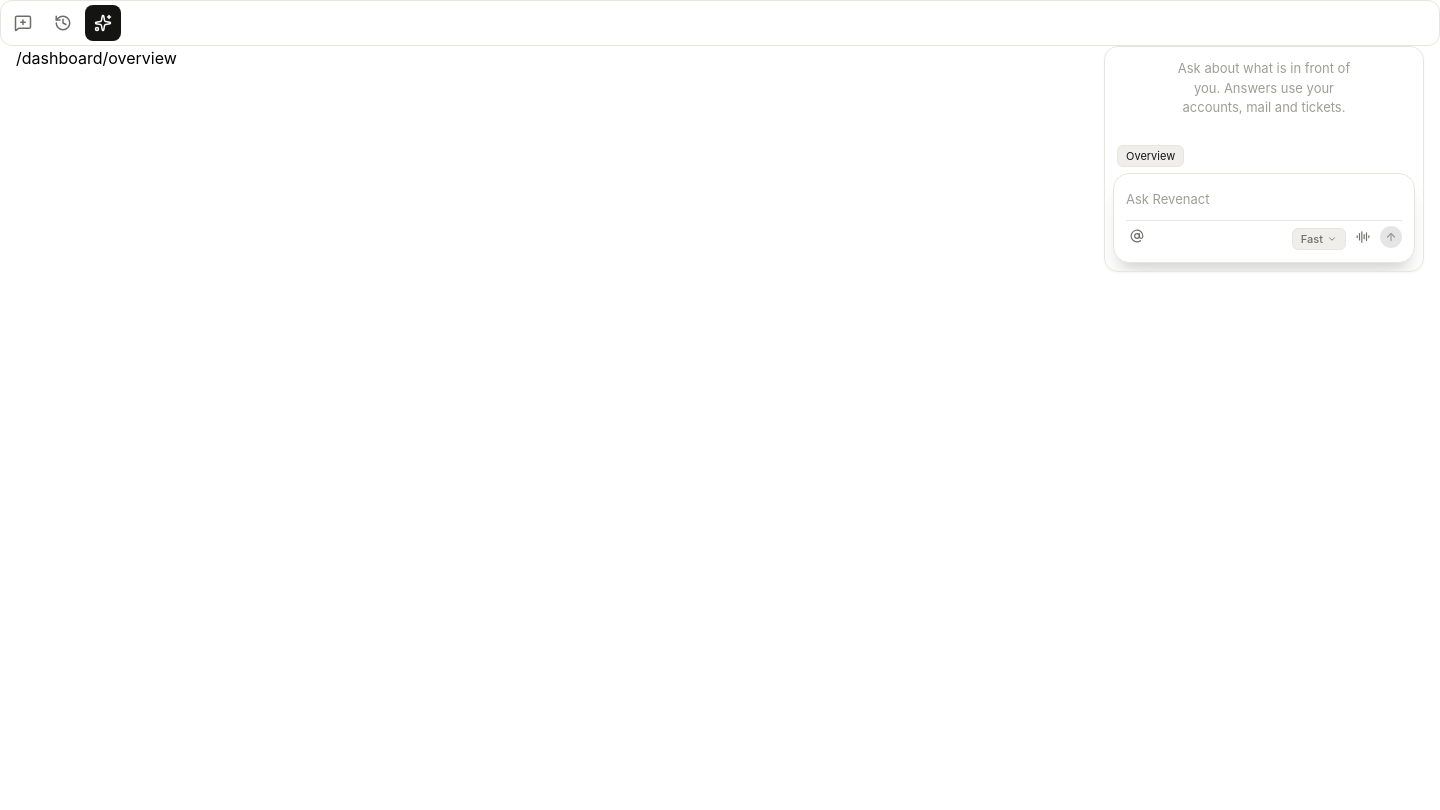
Test: reopening from history on the dashboard › opens from History without saving the open choice
The width and height of the screenshot is (1440, 810).
Click the button named "History" at (63, 23), box [45,5,81,41]
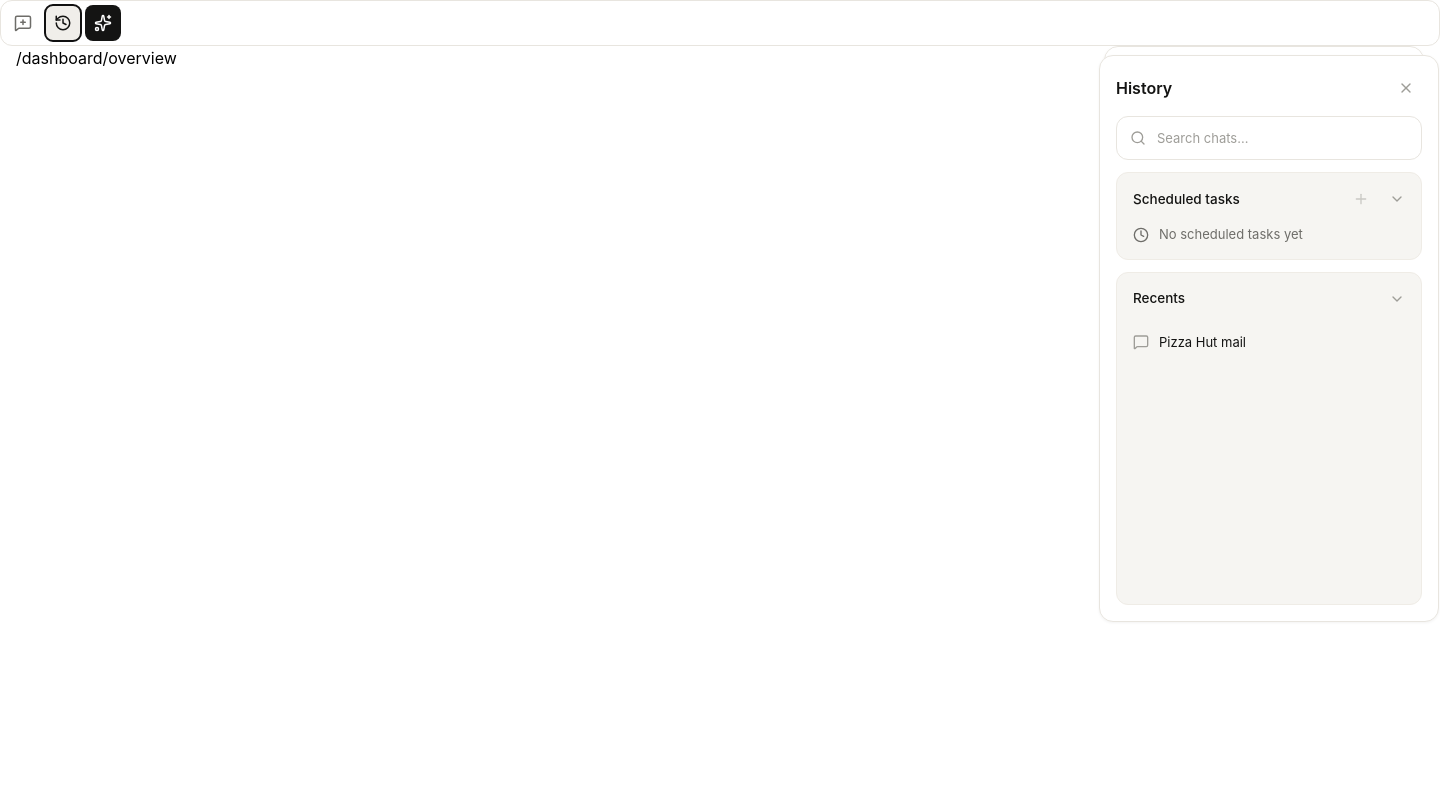
Click the button "Pizza Hut mail" at (1203, 342), box [1125,324,1413,360]
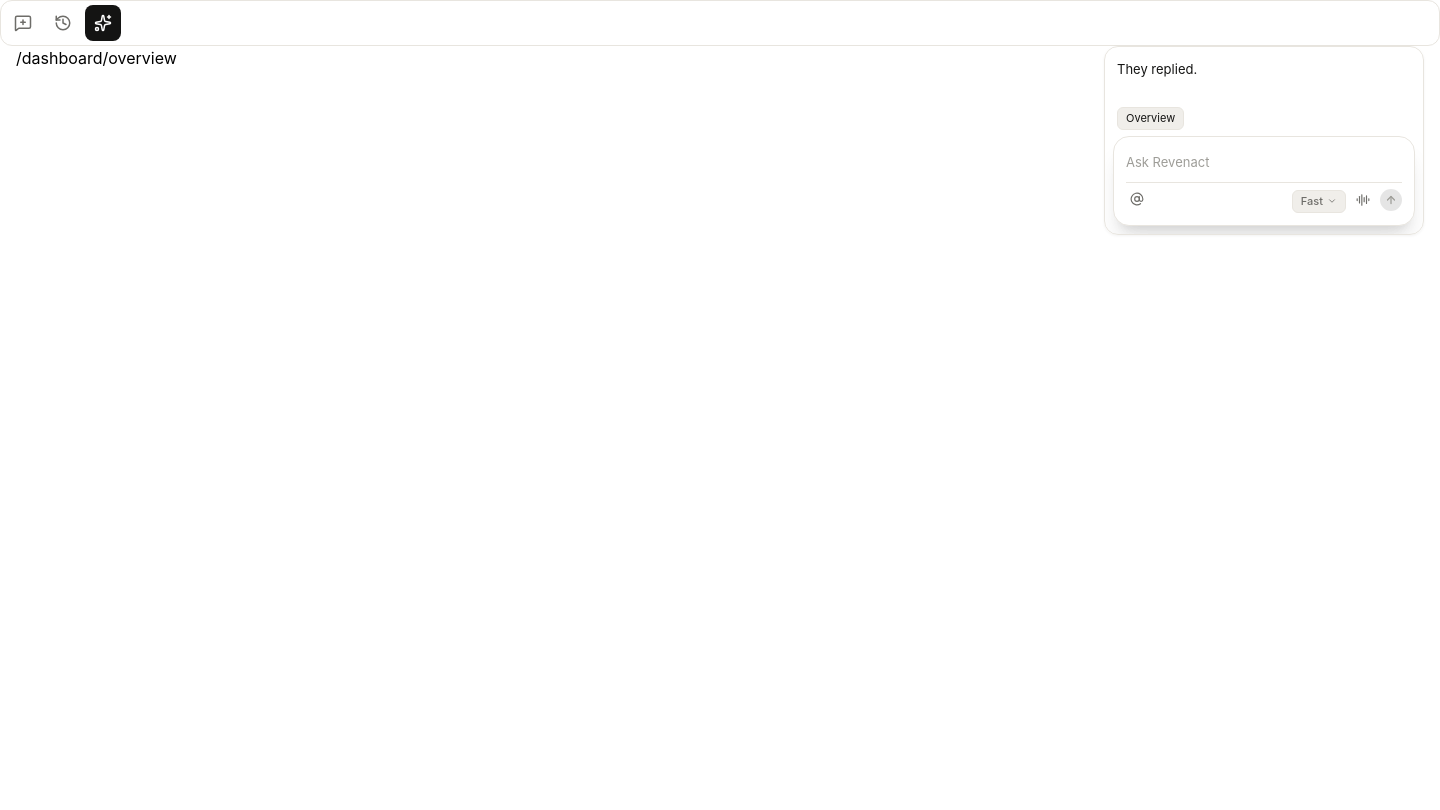
Now the text "They replied." is shown, box [1117,59,1197,80]
